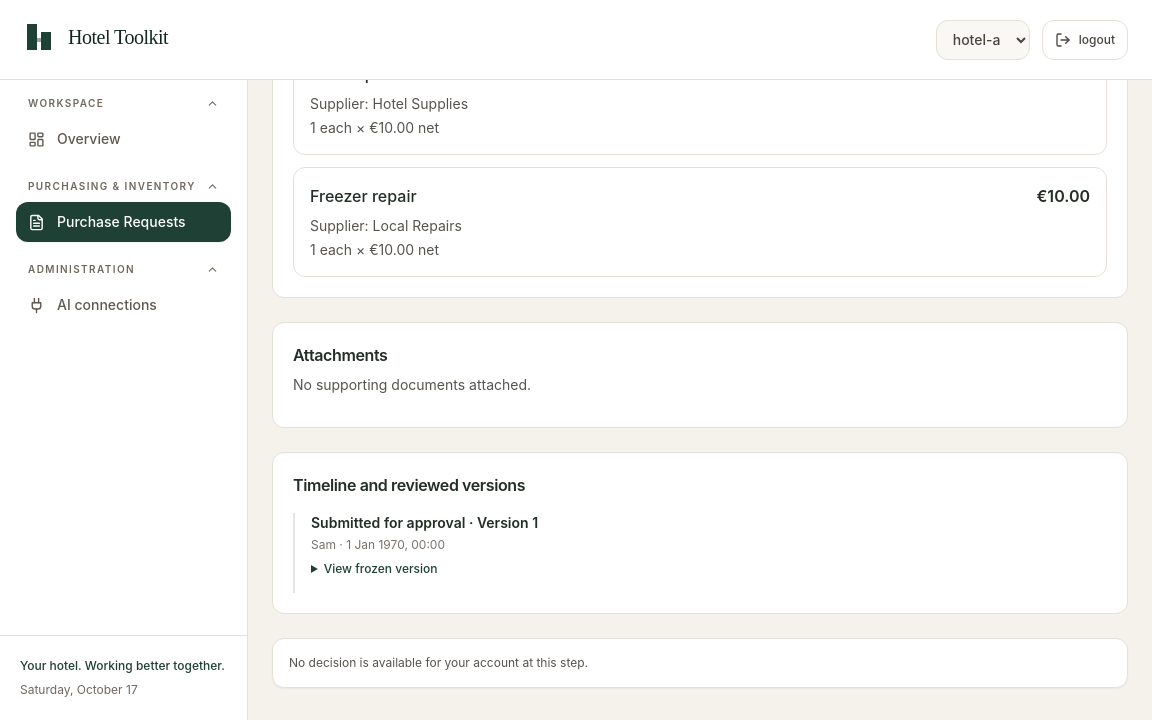
uses each frozen version's own supplier names and legacy fallback without inheriting explicit blanks
(page scrolled)
Click the heading "View frozen version".
click(381, 568)  # box 324,561 -> 438,576
(page scrolled)
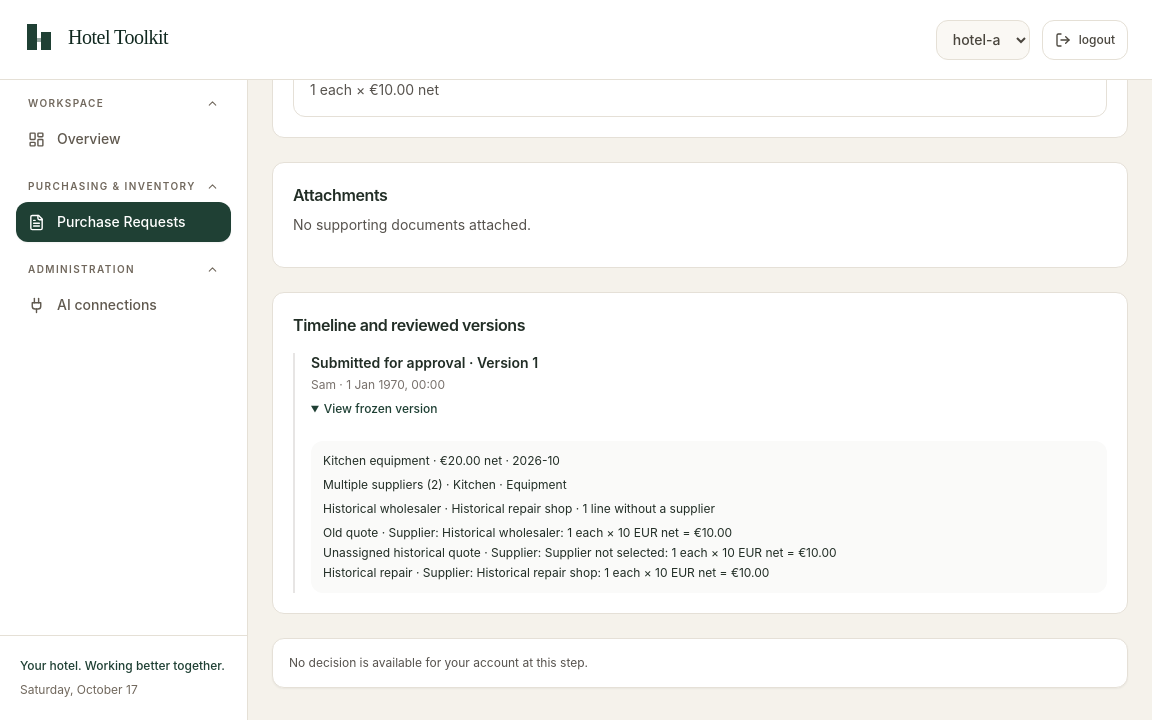
Check: the element named "Request timeline" shows "Multiple suppliers (2)", box 323,477 -> 443,492
Check: the element named "Request timeline" shows "Historical wholesaler · Historical repair shop", box 323,501 -> 715,516
Check: the element named "Request timeline" shows "Old quote · Supplier: Historical wholesaler", box 272,292 -> 1128,614
